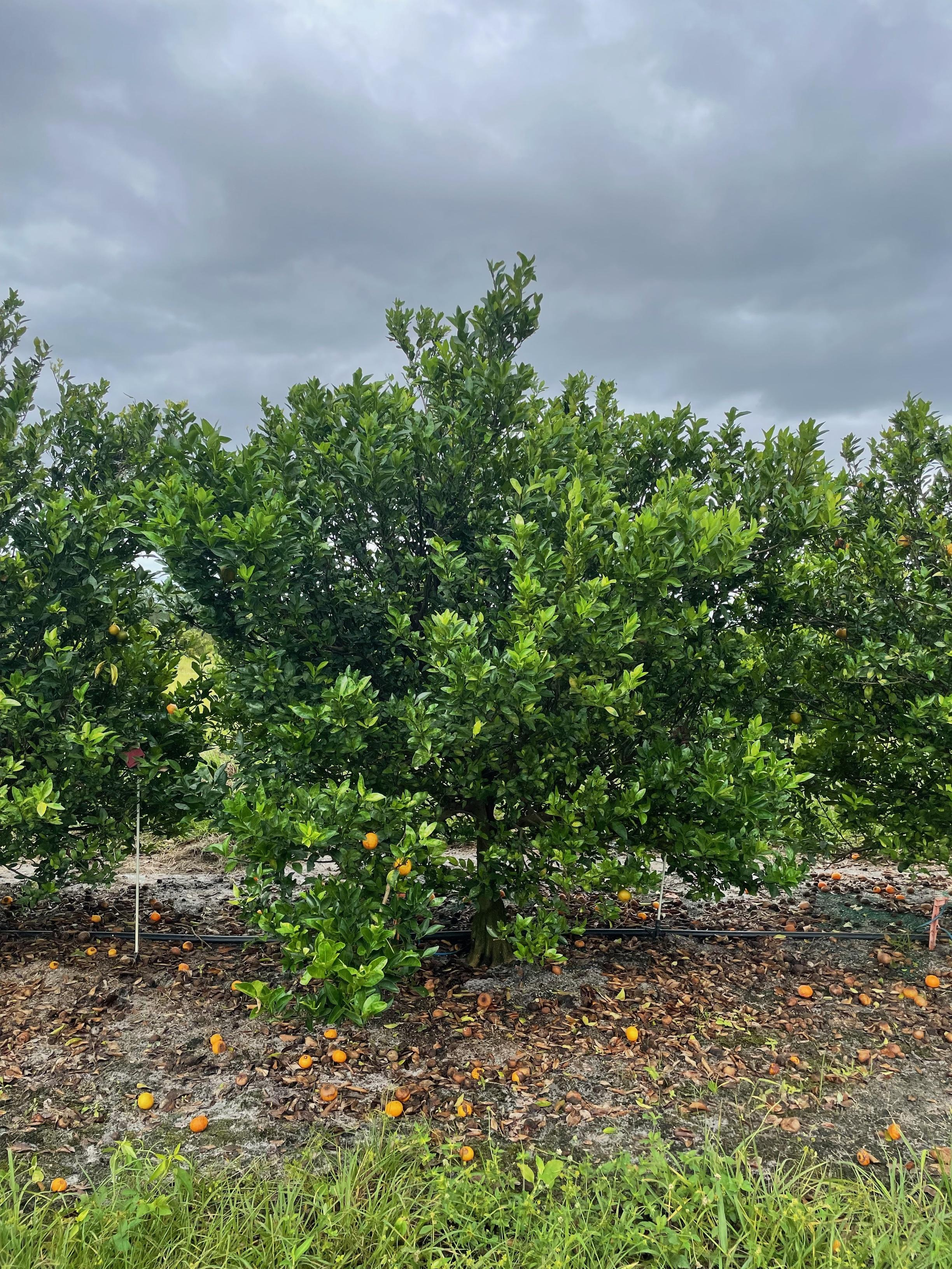fruit_on_ground: (217, 561, 239, 585), (391, 854, 414, 876), (359, 829, 381, 851), (895, 530, 916, 551), (787, 708, 805, 726), (833, 624, 850, 642), (163, 701, 180, 718), (831, 535, 849, 551), (616, 887, 633, 903), (114, 628, 130, 644), (107, 622, 122, 638)
fruit_on_tree: (135, 1090, 156, 1111), (317, 1082, 339, 1102), (854, 1148, 875, 1168), (457, 1143, 476, 1163), (189, 1114, 209, 1133), (455, 1101, 474, 1120), (885, 1121, 903, 1141), (475, 990, 493, 1009), (50, 1175, 68, 1194), (385, 1099, 404, 1117), (329, 1047, 349, 1064), (623, 1024, 640, 1043), (393, 1085, 411, 1102), (924, 972, 943, 988), (856, 990, 873, 1007), (903, 984, 921, 1000), (565, 1088, 583, 1104), (796, 982, 814, 998), (210, 1039, 228, 1055), (234, 1071, 250, 1088), (912, 994, 930, 1009), (876, 949, 892, 965), (322, 1025, 339, 1040), (298, 1053, 313, 1069), (208, 1032, 225, 1046), (516, 1065, 532, 1079), (451, 1070, 467, 1084), (229, 978, 245, 992), (797, 898, 812, 912), (147, 909, 162, 923), (782, 921, 798, 934), (509, 1070, 524, 1083), (573, 936, 586, 949), (0, 894, 13, 907), (471, 1066, 483, 1080), (180, 940, 194, 952), (551, 964, 564, 976), (89, 913, 102, 925), (168, 945, 182, 956), (152, 899, 166, 910), (893, 890, 906, 901), (84, 945, 97, 956), (635, 910, 648, 921), (103, 911, 115, 922), (48, 958, 60, 969), (830, 870, 842, 881), (107, 946, 119, 957), (96, 900, 109, 910), (650, 899, 661, 910), (871, 884, 883, 894), (884, 884, 896, 894), (850, 851, 861, 861), (817, 880, 828, 889)
